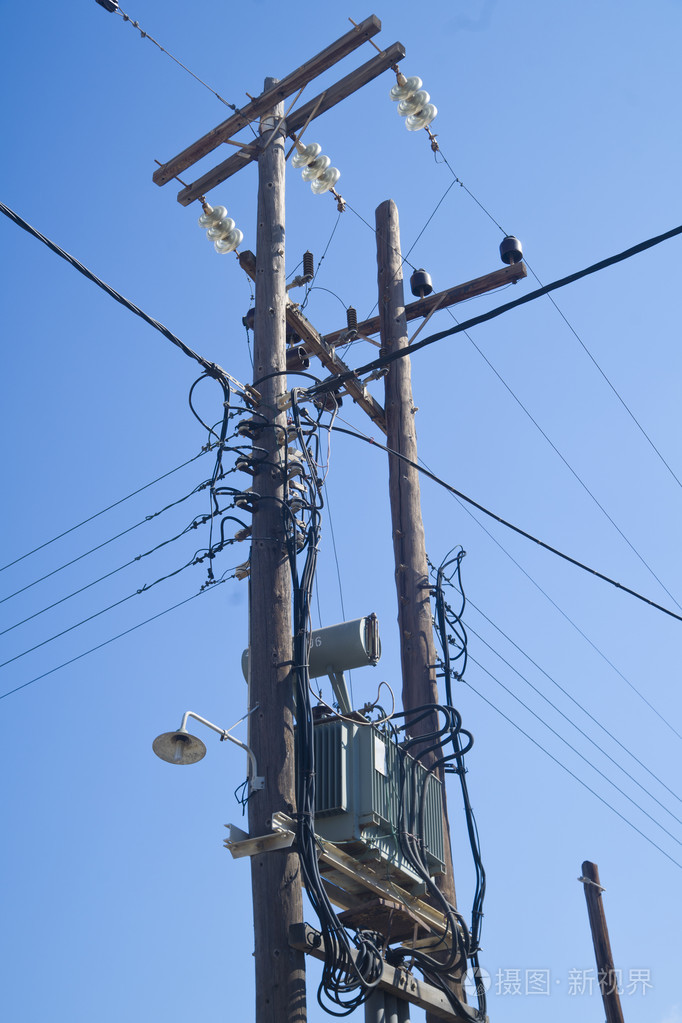insulator: (392, 73, 434, 133), (290, 145, 337, 196), (194, 206, 244, 253)
